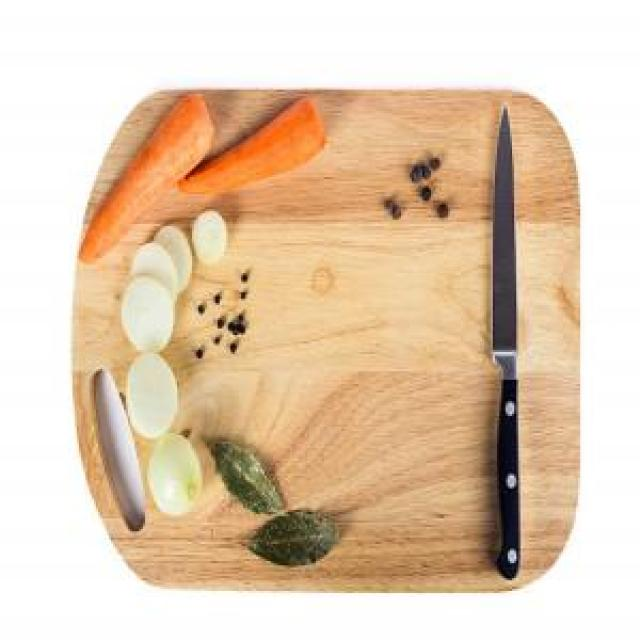knife: (488, 102, 534, 584)
